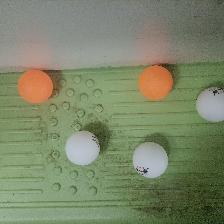WhiteBall: (131, 142, 168, 177), (65, 130, 100, 165), (195, 86, 223, 122)
YellowBall: (137, 65, 172, 100), (17, 68, 53, 102)
